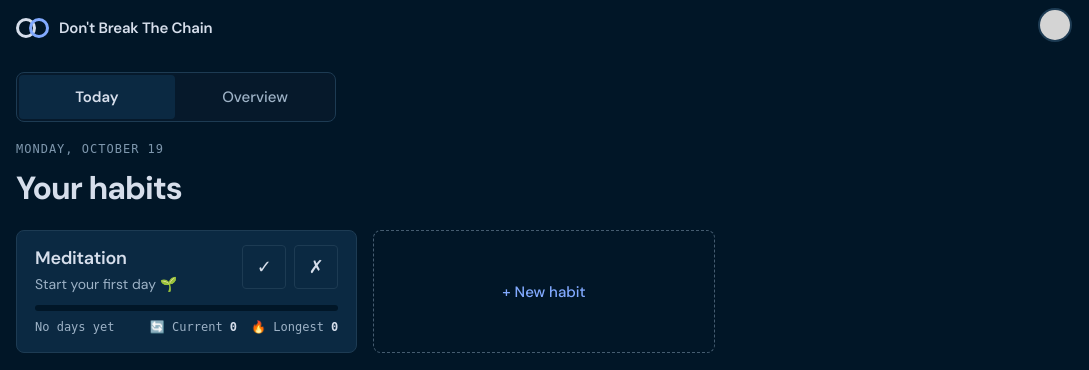
Test case: HabitsList - User workflows › should allow user to mark today's status for a habit
Expected: the text "Meditation" is shown, [35,246,127,270]
// User marks today as GOOD by clicking the good radio button
Click the radio button named "Done": (264, 267) [242,245,286,289]
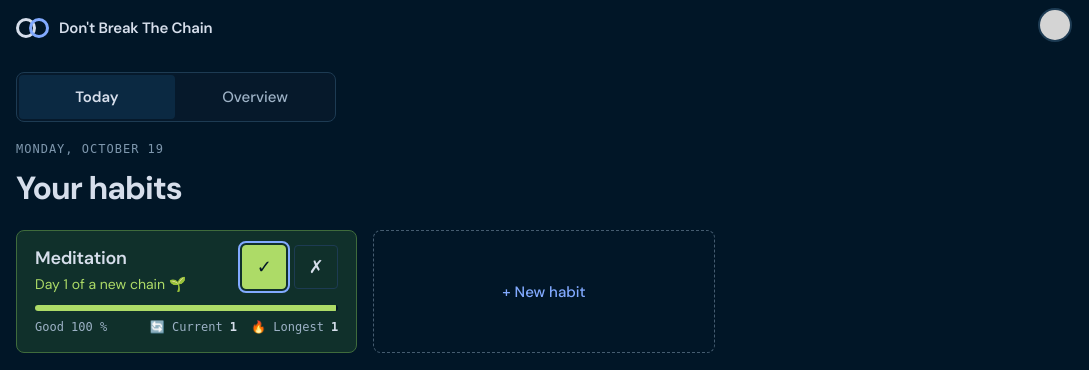
Result: the text "Day 1 of a new chain 🌱" is shown at [35,274,186,295]
